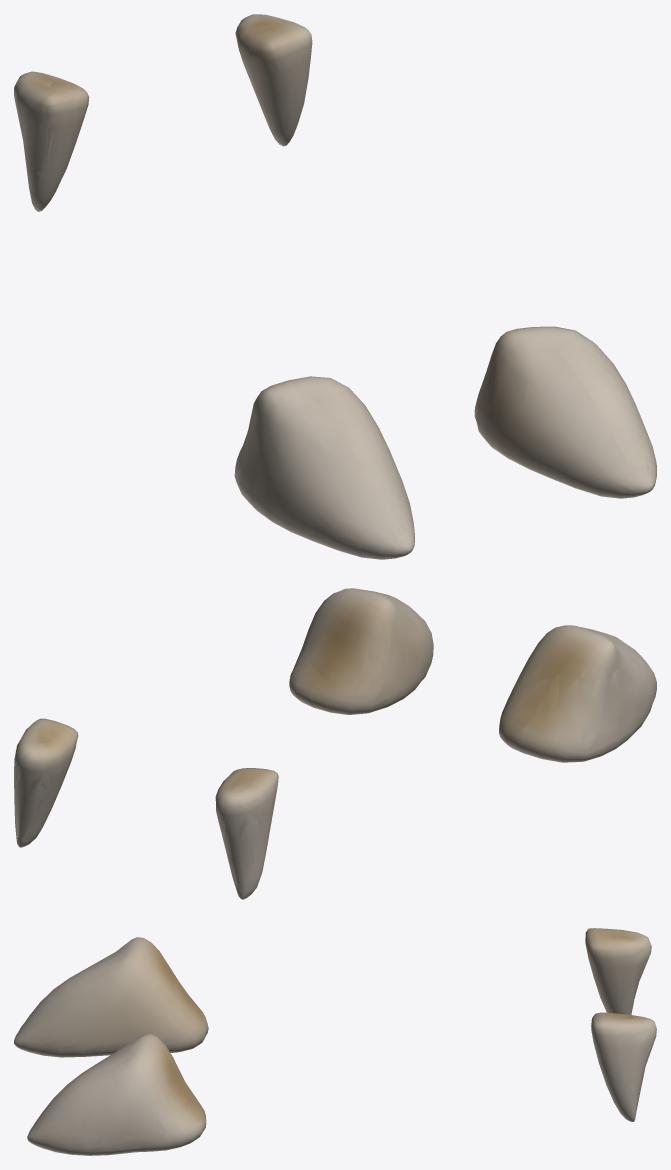
Rendered from FL 3rd Phalanx.fbx.
3 renders of one model, top to bottom at view 1: azimuth 30°, elevation 25°; view 2: azimuth 150°, elevation 25°; view 3: azimuth 270°, elevation 25°, orthographic. The views are drawn at different scales.
Visible parts, largest first — view 1: FL 3rd Phalanx, FL 3rd Phalanx low; view 2: FL 3rd Phalanx, FL 3rd Phalanx low; view 3: FL 3rd Phalanx, FL 3rd Phalanx low.
Part boxes in pixels (x1,y1,x2,y2): FL 3rd Phalanx: [14, 14, 656, 559]; FL 3rd Phalanx low: [14, 14, 656, 559]; FL 3rd Phalanx: [14, 588, 656, 899]; FL 3rd Phalanx low: [14, 588, 656, 897]; FL 3rd Phalanx: [14, 928, 656, 1155]; FL 3rd Phalanx low: [15, 928, 653, 1155].
Bounding box in the file's own units: 2.73 × 1.33 × 5.49.
